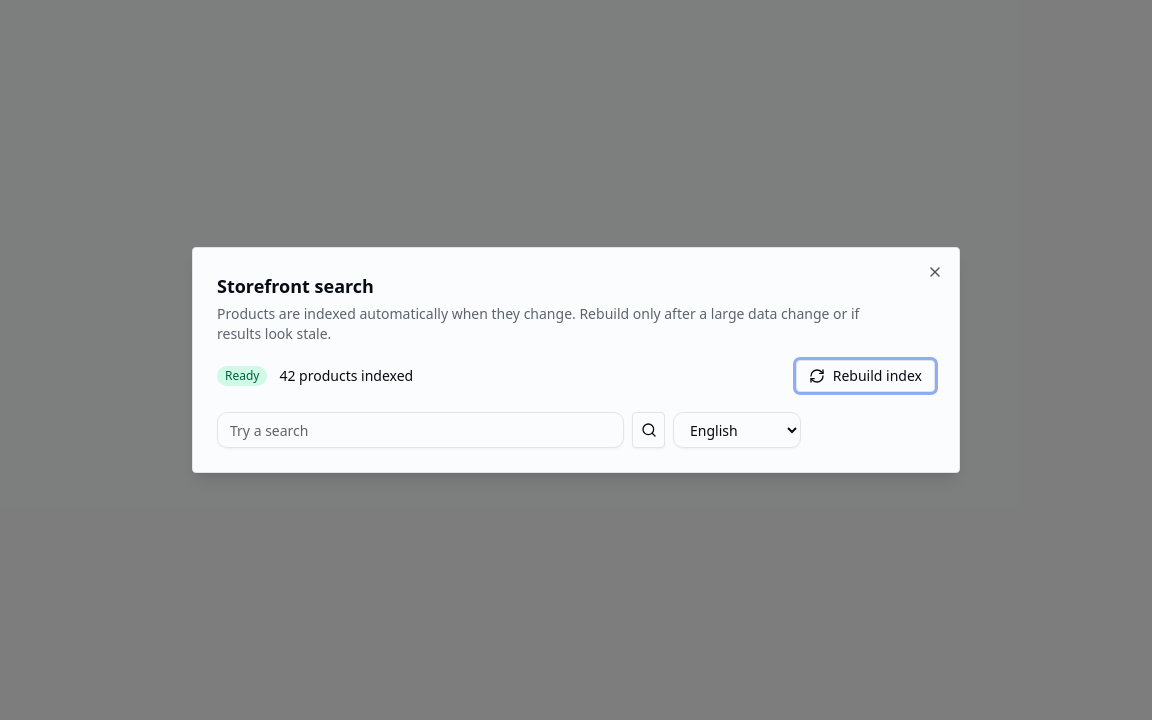
Test case: Search index dialog › shows status, rebuilds, and previews storefront results per language
Expected: the text "42 products indexed" is shown, [280, 366, 413, 386]
Click the button "Rebuild index": (865, 376) [796, 360, 935, 392]
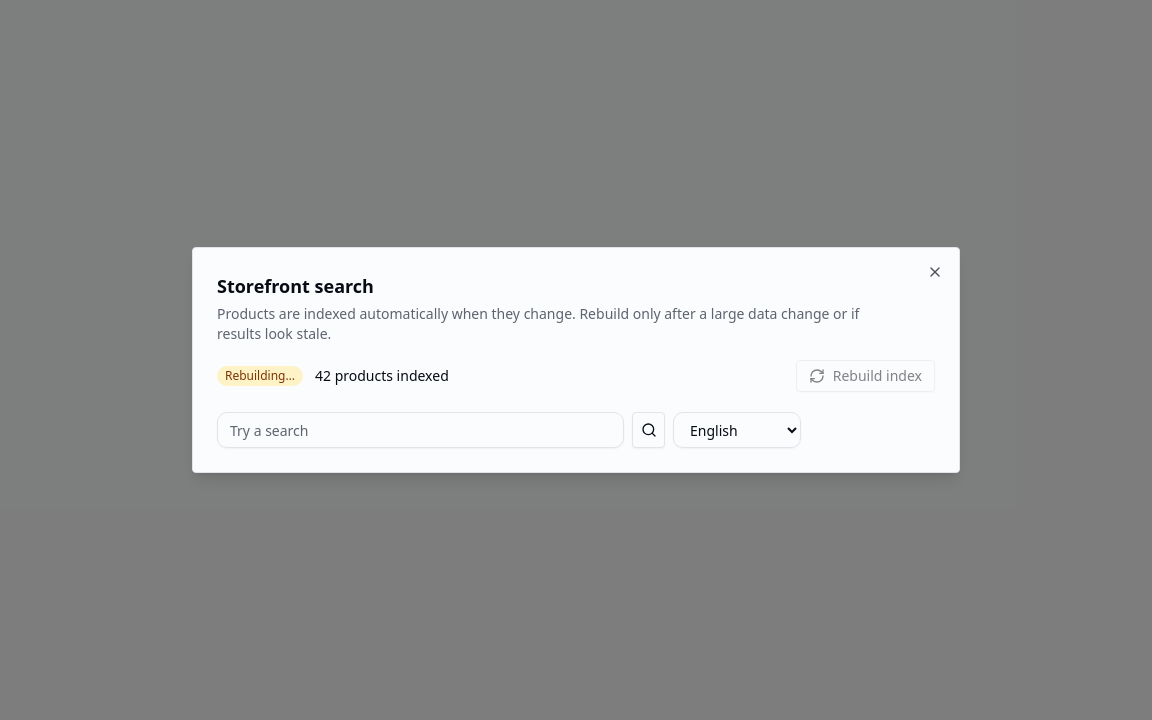
Expected: the text "Rebuilding…" is shown, [217, 366, 303, 386]
Select "Arabic" in the dropdown named "Language": (737, 430) [673, 412, 801, 448]
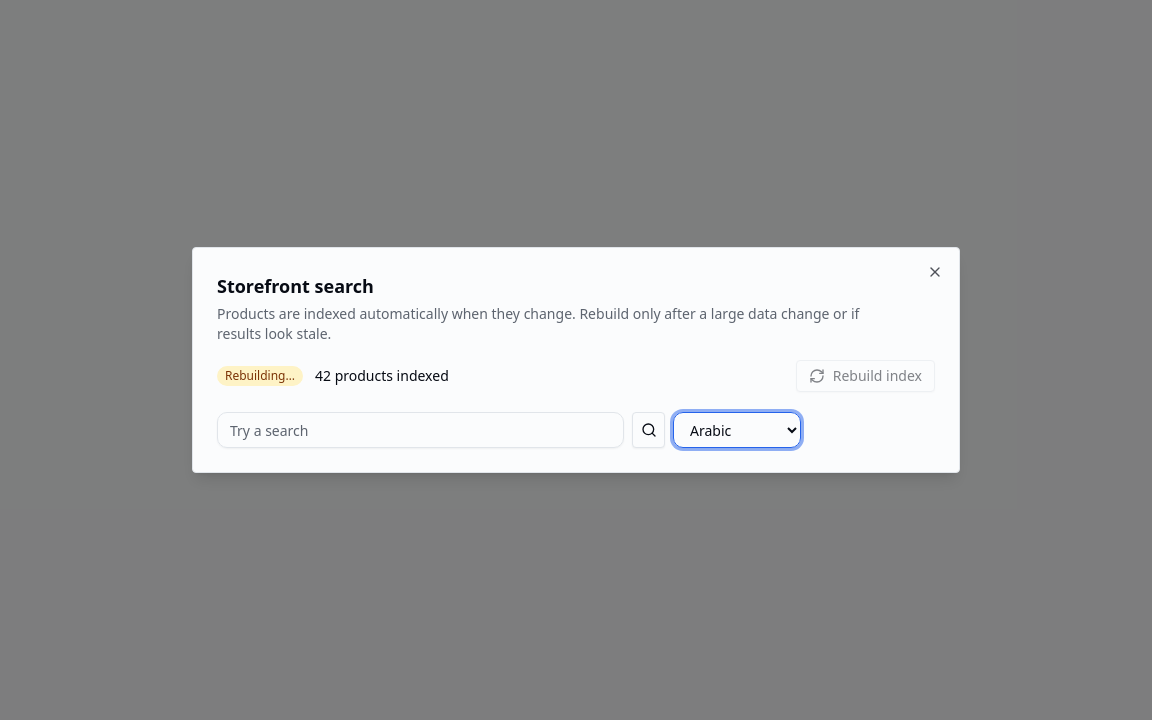
In the search field: (421, 430) [217, 412, 624, 448], type "rice"
Then press Enter
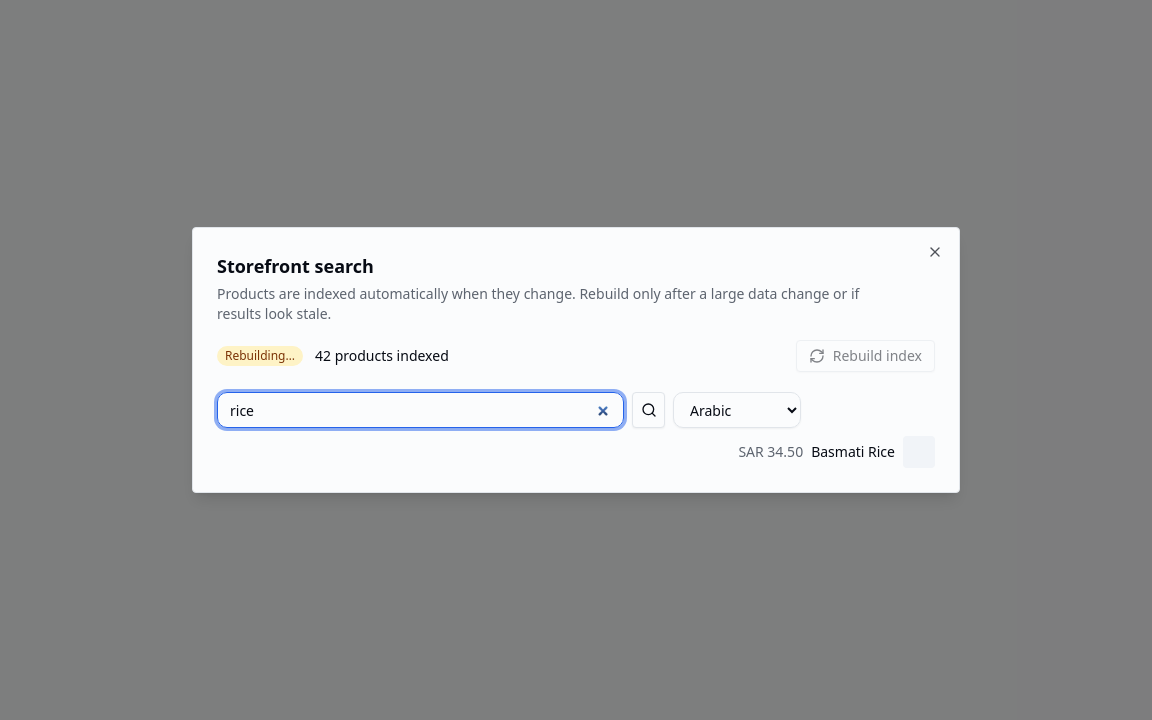
Expected: the list named "Search results" shows "Basmati Rice", [811, 442, 895, 461]
